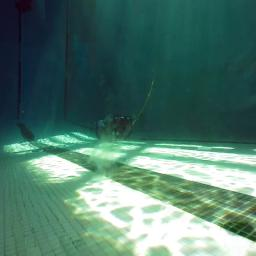front: (93, 113, 136, 143)
